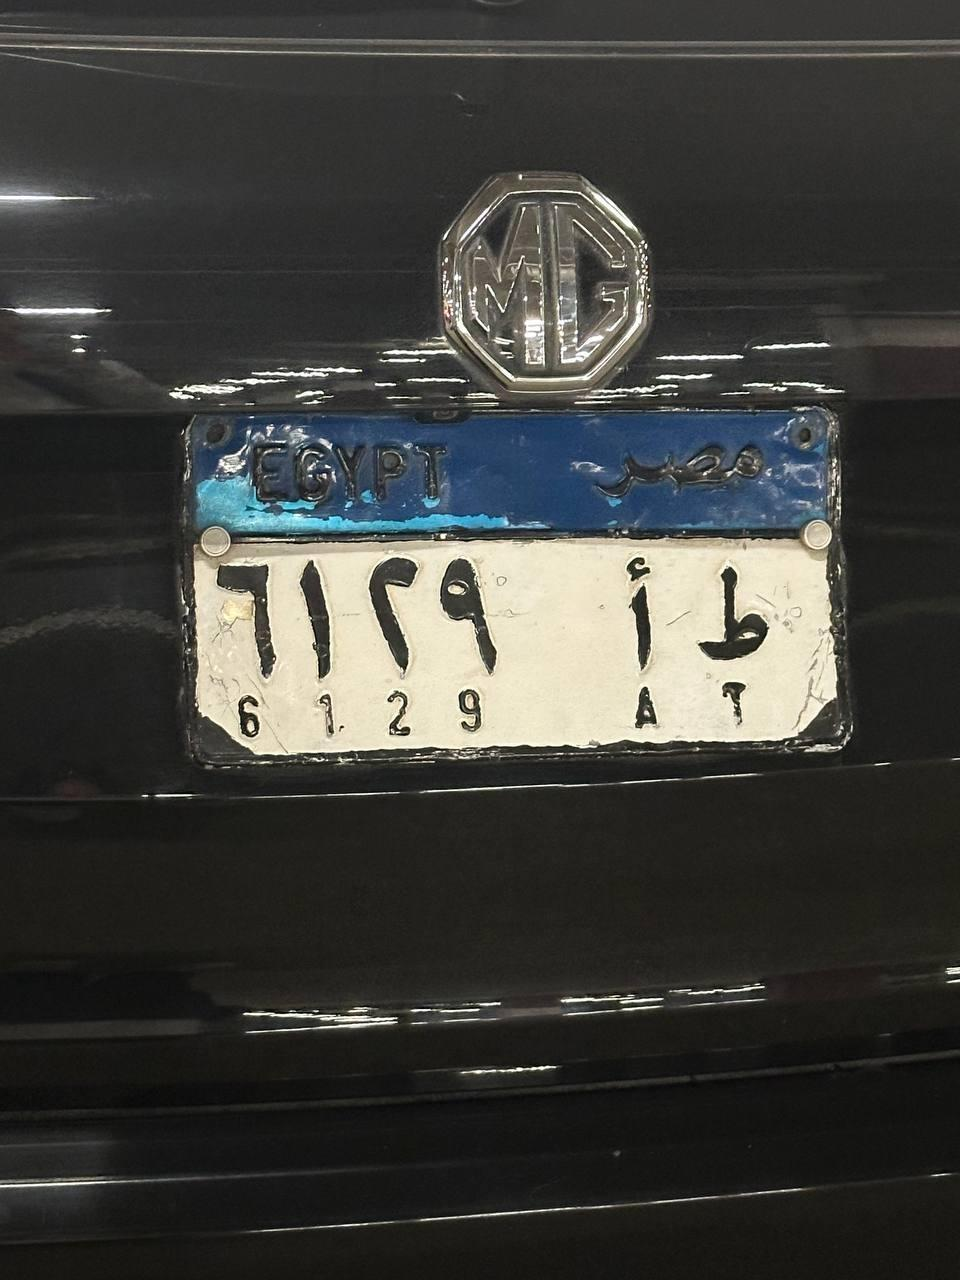1: (290, 540, 356, 692)
2: (368, 548, 423, 674)
6: (206, 546, 282, 684)
9: (426, 540, 510, 672)
License Plate: (174, 404, 854, 775)
Taa: (693, 546, 783, 670)
alef: (606, 548, 663, 666)
